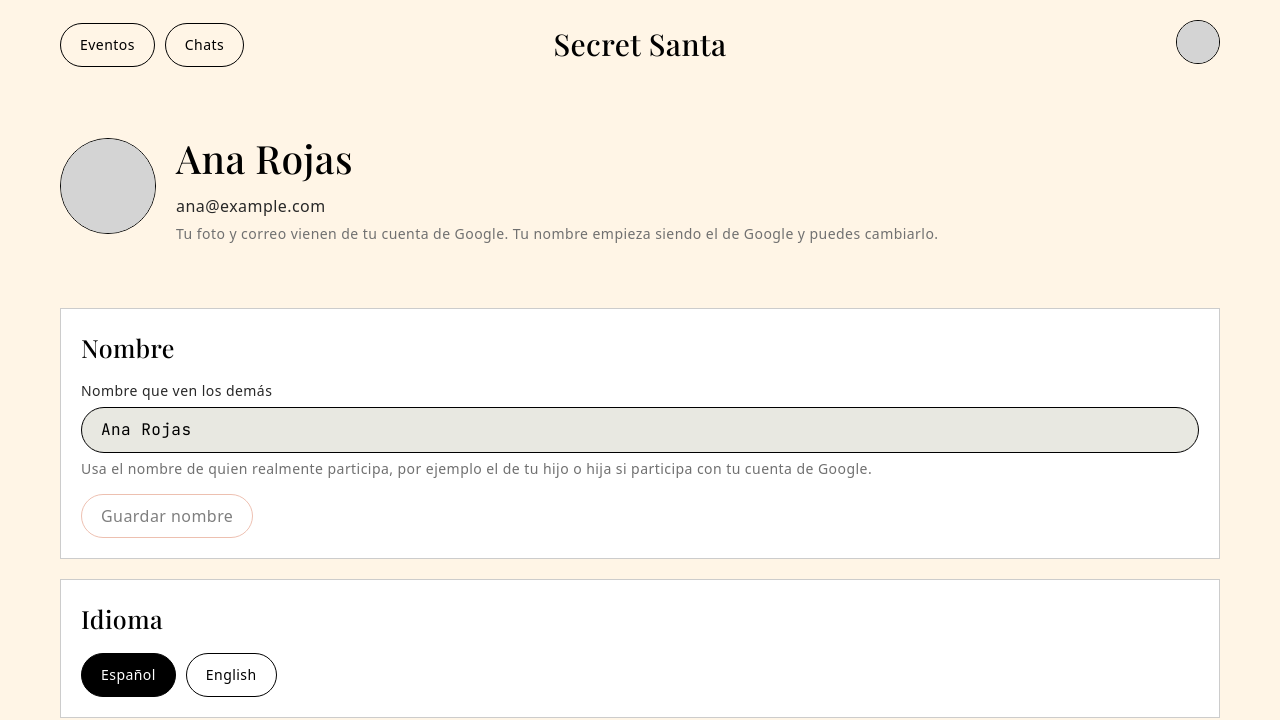
it: ProfilePage › name › saves a trimmed name with PATCH /me and shows it in the header
Expected: the heading "Ana Rojas" is shown, [176,132,353,184]
Expected: the button "Guardar nombre" is disabled, [81,494,253,538]
Replace the text in the field labelled "Nombre que ven los demás" with "  Noah   Mata ". click: (640, 430)
box: [101,408,1179,452]
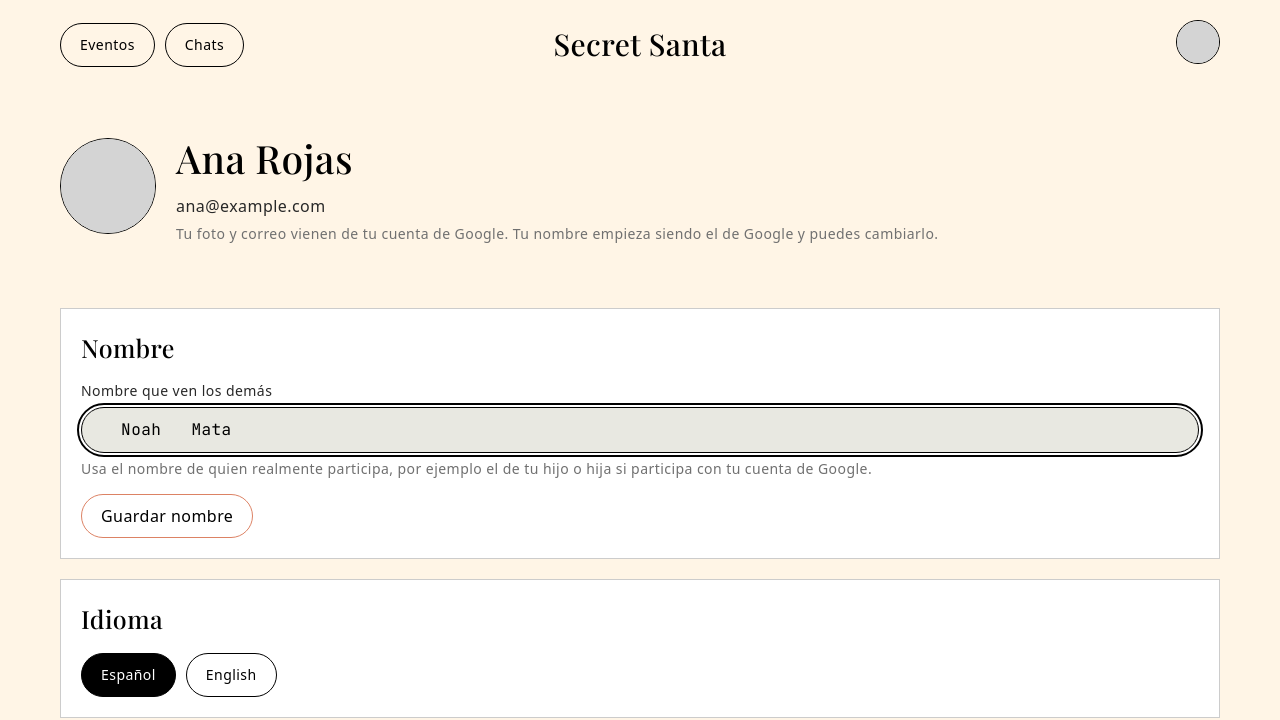
Click the button "Guardar nombre". click: (167, 516)
box: [81,494,253,538]
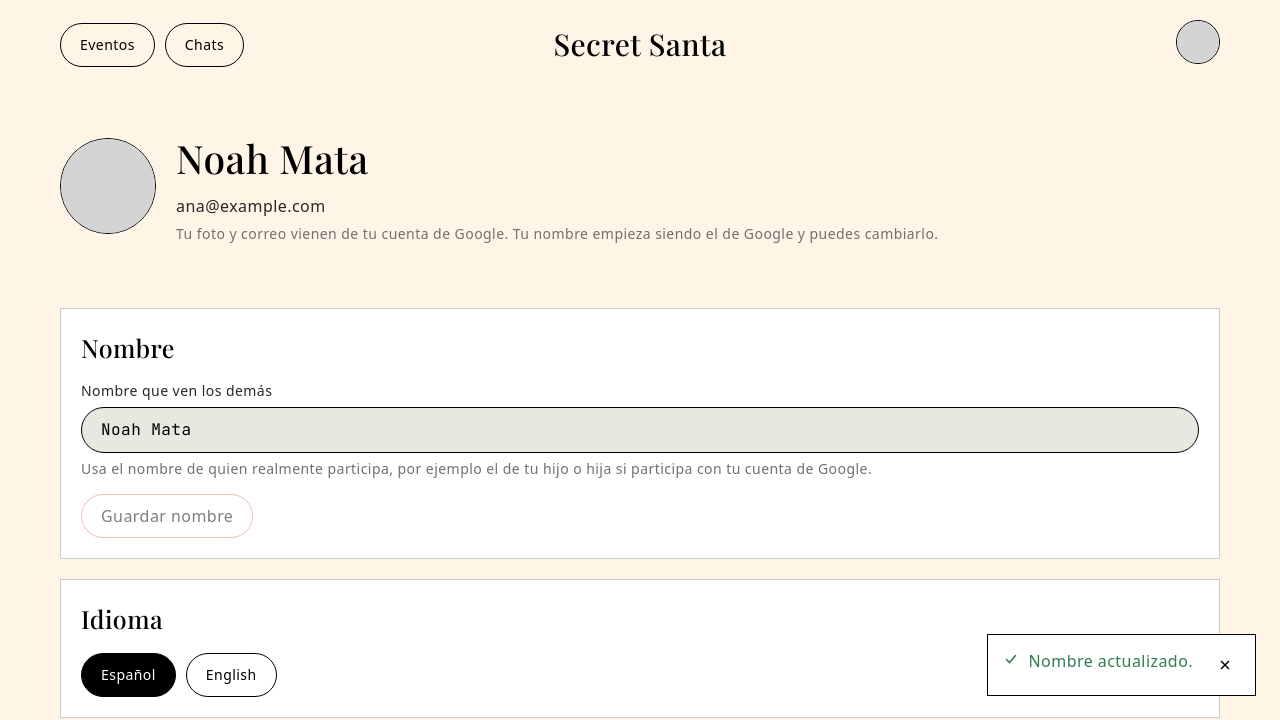
Expected: the text "Nombre actualizado." is shown, [1028,649,1193,673]
Expected: the heading "Noah Mata" is shown, [176,132,369,184]
